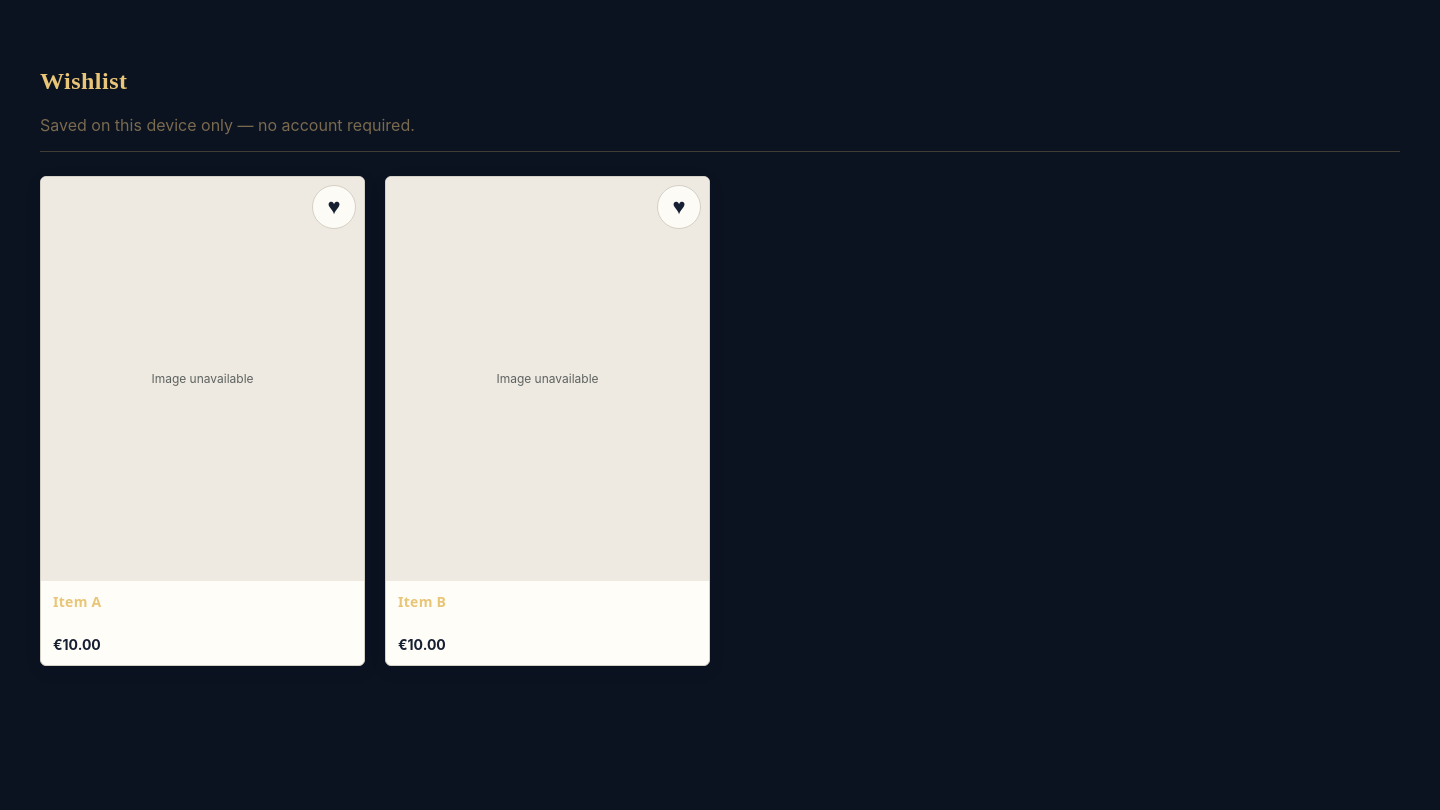
Test: Sprint 172 Wishlist page source-of-truth synchronization › removes one card immediately after its same-tab ProductCard toggle
Expected: the heading "Item A" is shown, [53, 592, 102, 611]
Same ProductCard effect race as the last-item case: wait for the removal control.
Click the button named "Remove Item A from wishlist" at coordinates (334, 207), box [312, 185, 356, 229]
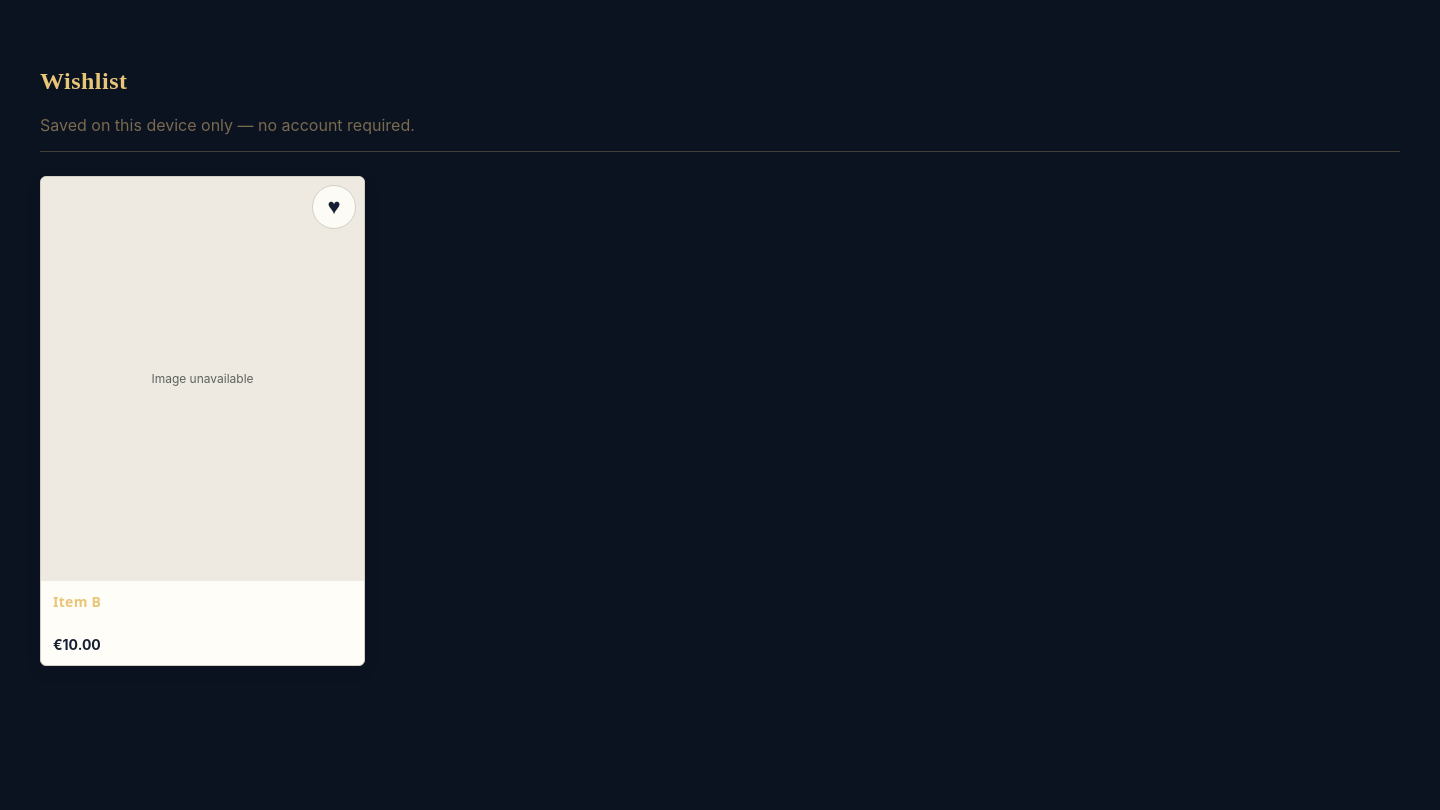
Expected: the heading "Item B" is shown, [53, 592, 101, 611]
Now the link "Item A" is gone
